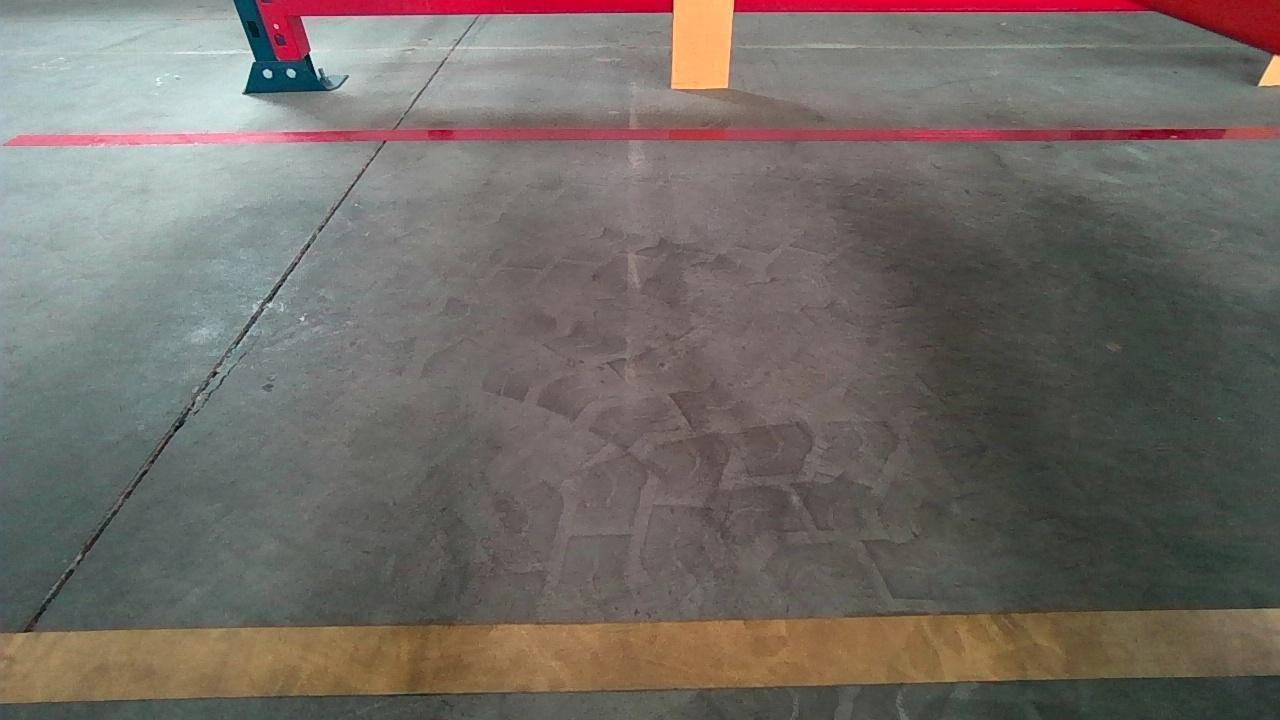red_line: (3, 127, 1280, 147)
